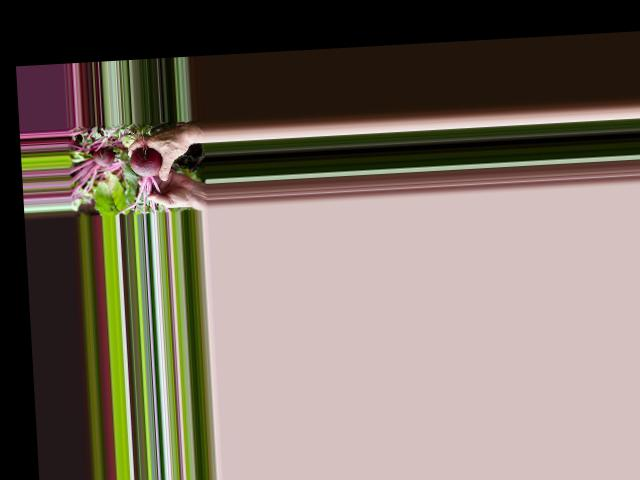beet: (111, 145, 166, 215)
